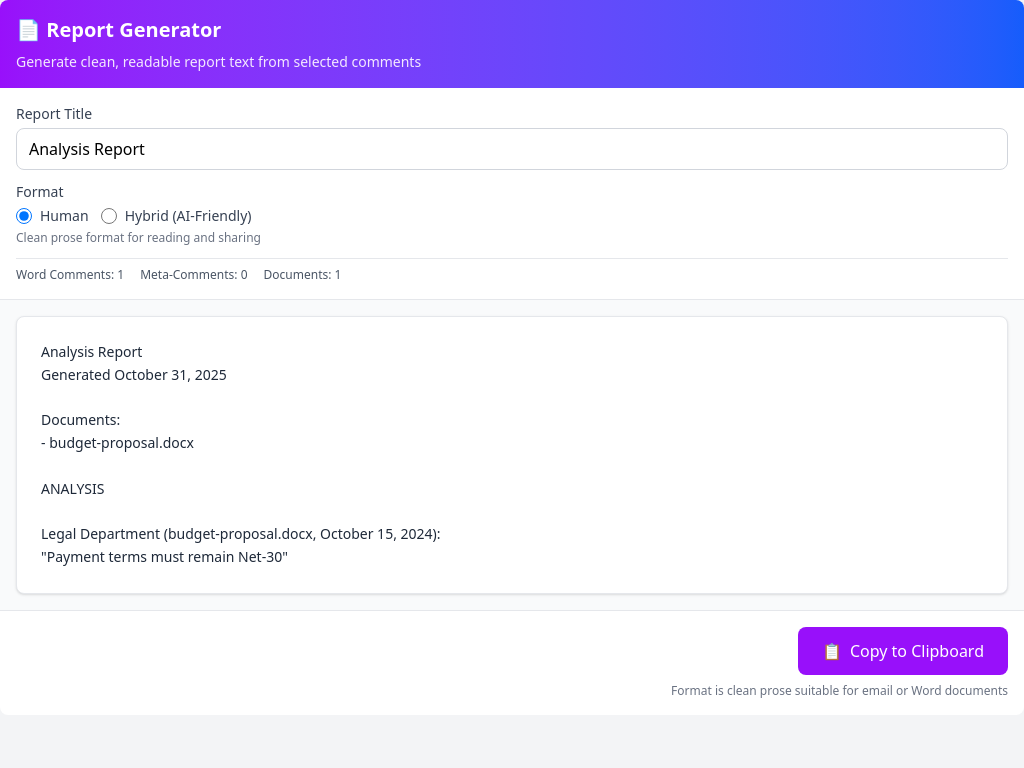
Test case: ReportPreview › should update preview when title changes
Step 1. Replace the text in the field showing "Analysis Report" with "New Title" → [512, 149], box [16, 128, 1008, 170]
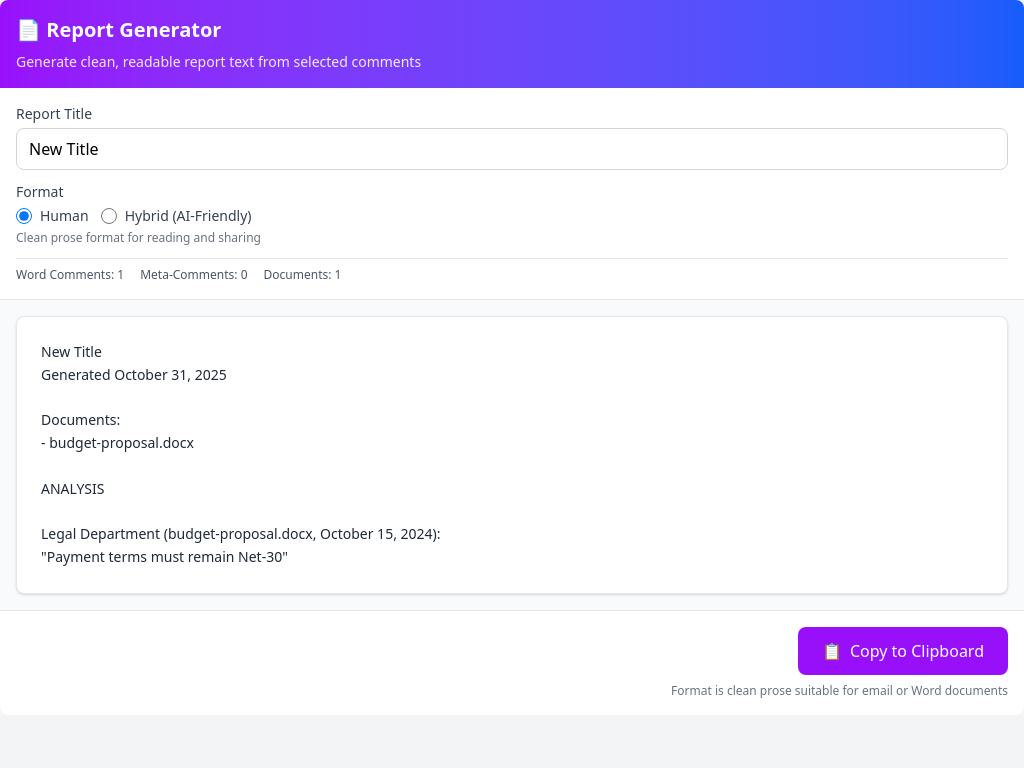
Expected: the text "New Title" is shown, [41, 342, 440, 566]
